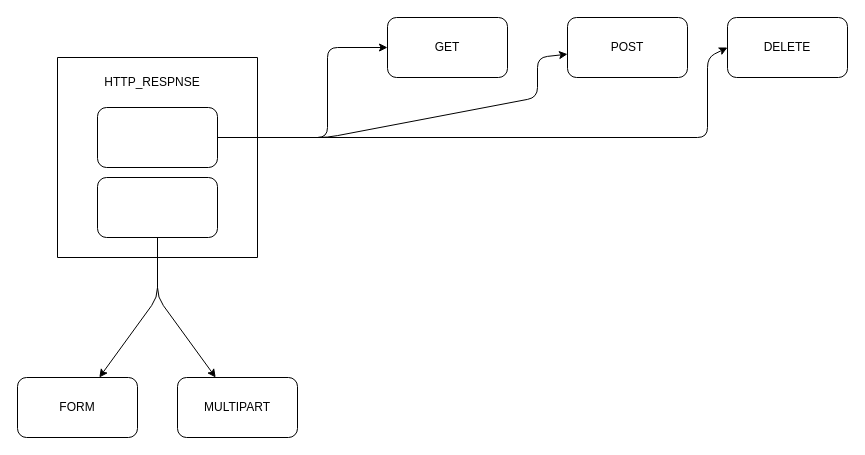
The diagram is 865 pixels wide and 455 high, and some of its shapes have lost their labels. The centre of each missing label's shape, as x and y in pixels:
ABodyParser *parser: the point at 157,207
AMethod *method: the point at 157,137
